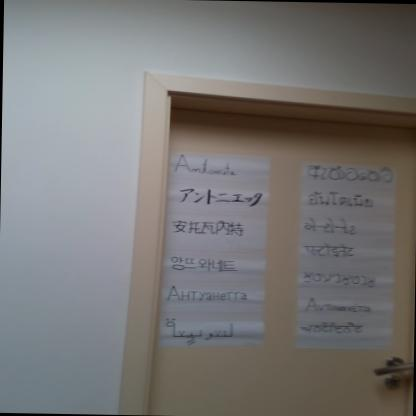closed: (126, 69, 415, 415)
